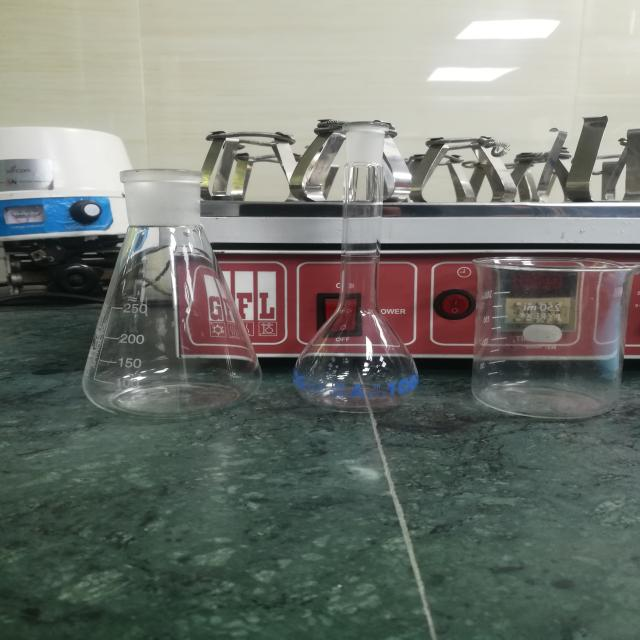Beaker: (447, 223, 640, 439)
Conical_Flask: (44, 142, 280, 422)
Volumetric_Flask: (304, 105, 430, 425)
